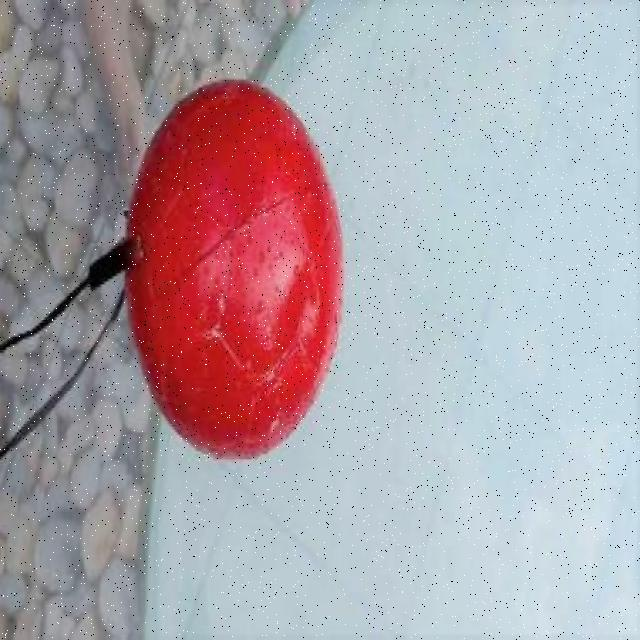buoy: (123, 77, 345, 459)
